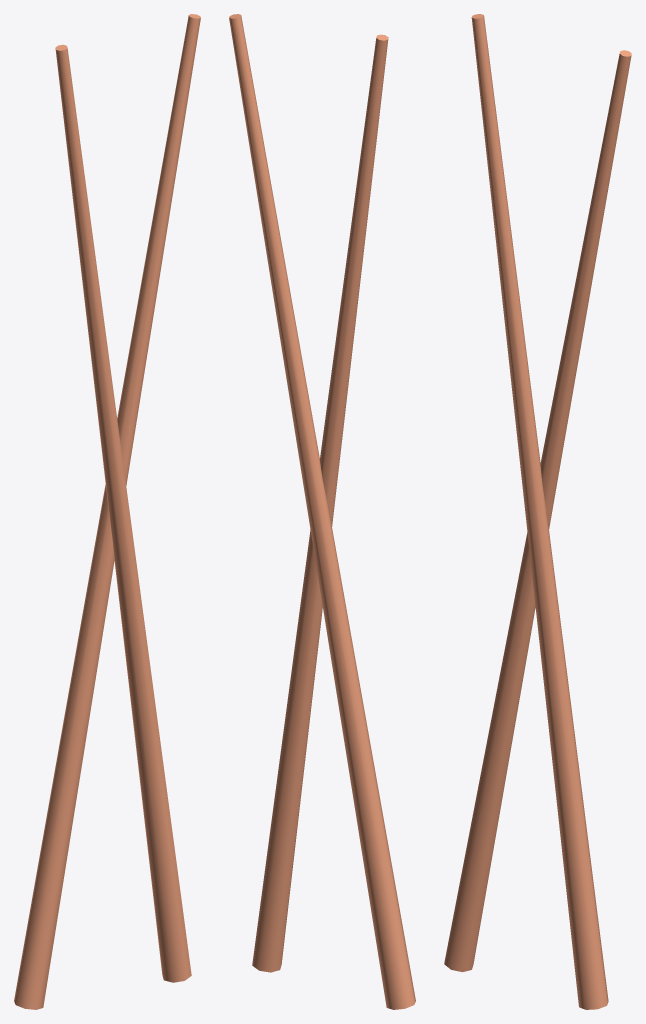
Rendered from chopsticks_crossed_001.glb.
3 views of the same model, side by side, from view 1: azimuth 30°, elevation 25°; view 2: azimuth 150°, elevation 25°; view 3: azimuth 330°, elevation 25° (orthographic).
Parts seen in each view (by area): view 1: chopsticks crossed.001; view 2: chopsticks crossed.001; view 3: chopsticks crossed.001.
Boxes of the visible parts, left/top/right/bottom form: chopsticks crossed.001: left=14, top=14, right=200, bottom=1009; chopsticks crossed.001: left=229, top=14, right=415, bottom=1009; chopsticks crossed.001: left=444, top=14, right=631, bottom=1009.
Size of the model in its own units: 1.11 by 5.49 by 0.2315.
Materials: 1 (1 with a texture image).
